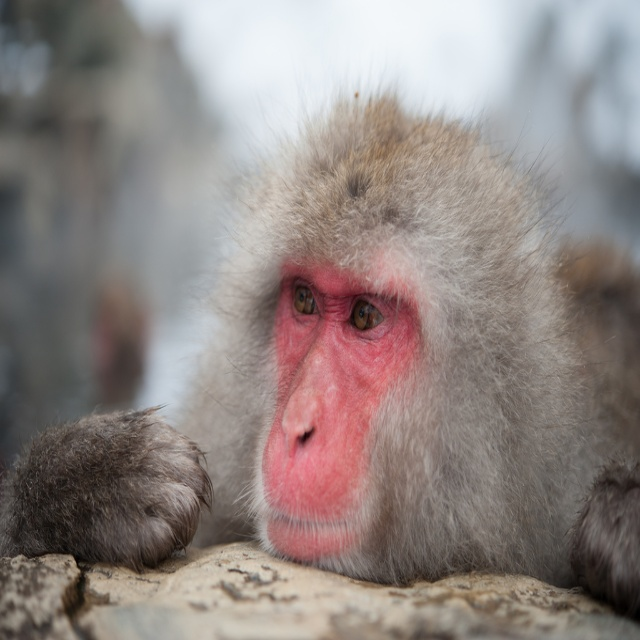Monkey: (0, 85, 640, 624)
